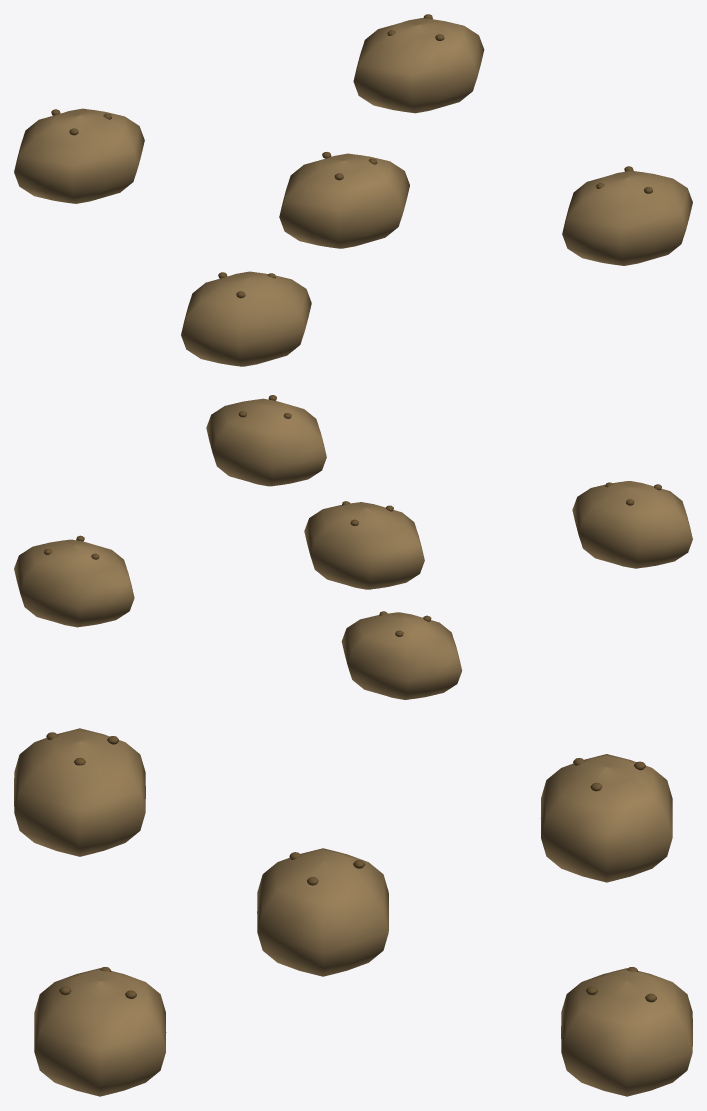
The model's file is potato_seed.glb.
3 renders of one model, top to bottom at view 1: azimuth 30°, elevation 25°; view 2: azimuth 150°, elevation 25°; view 3: azimuth 270°, elevation 25°, orthographic. The views are drawn at different scales.
Visible parts, largest first — view 1: seeds; view 2: seeds; view 3: seeds.
Boxes of the visible parts, <box> form: seeds: <box>14,14,692,366</box>; seeds: <box>14,395,692,699</box>; seeds: <box>14,728,692,1096</box>.
Bounding box in the file's own units: 0.3742 × 0.056 × 0.3351.
